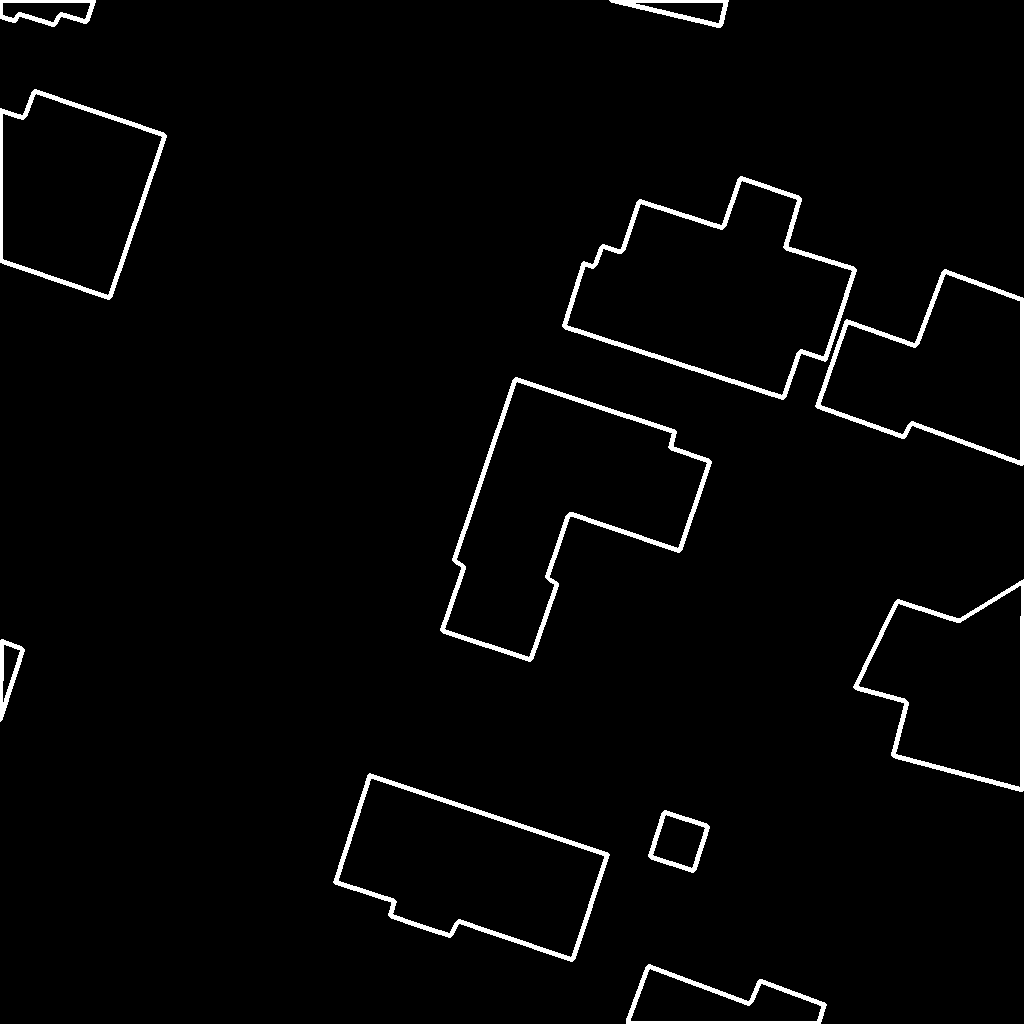building: (442, 379, 711, 661), (564, 178, 856, 399), (335, 775, 609, 961), (817, 271, 1024, 465), (855, 581, 1024, 791), (0, 91, 166, 299), (628, 966, 826, 1024), (650, 812, 709, 872), (609, 0, 728, 27), (0, 0, 95, 26), (0, 641, 24, 722)
